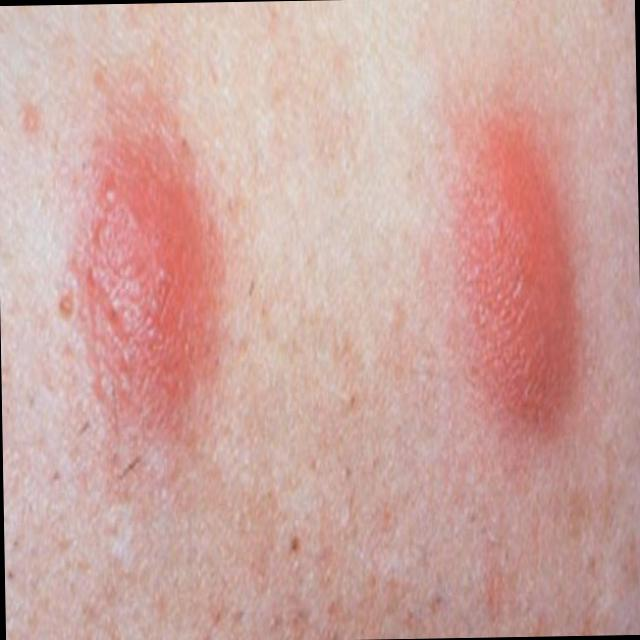nodule: (468, 133, 562, 434), (84, 172, 194, 410)
